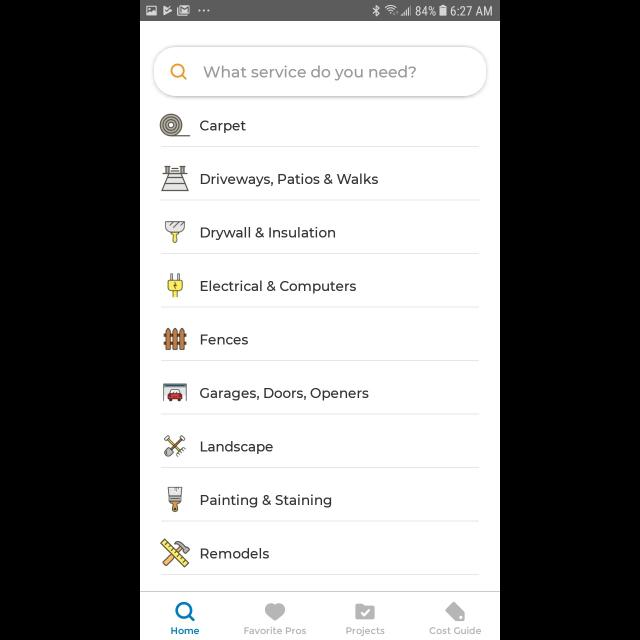icon: (176, 602, 196, 622), (446, 602, 464, 622), (265, 603, 285, 621), (356, 603, 374, 619), (171, 64, 187, 80)
image: (161, 538, 191, 568), (161, 166, 189, 192), (160, 114, 192, 136), (164, 435, 186, 457), (164, 328, 186, 350), (165, 221, 185, 243), (163, 384, 187, 402), (168, 486, 184, 512), (168, 274, 184, 298)
input: (154, 47, 486, 97)
text: (204, 66, 416, 82), (202, 280, 356, 294), (201, 174, 379, 186), (201, 388, 369, 400), (200, 494, 332, 508), (201, 228, 335, 240), (200, 442, 274, 454), (201, 548, 269, 560), (201, 120, 247, 134), (245, 626, 307, 634), (200, 335, 248, 345), (430, 626, 482, 634), (347, 626, 385, 636), (172, 628, 200, 634)
uppertaskbar: (140, 1, 500, 22)
